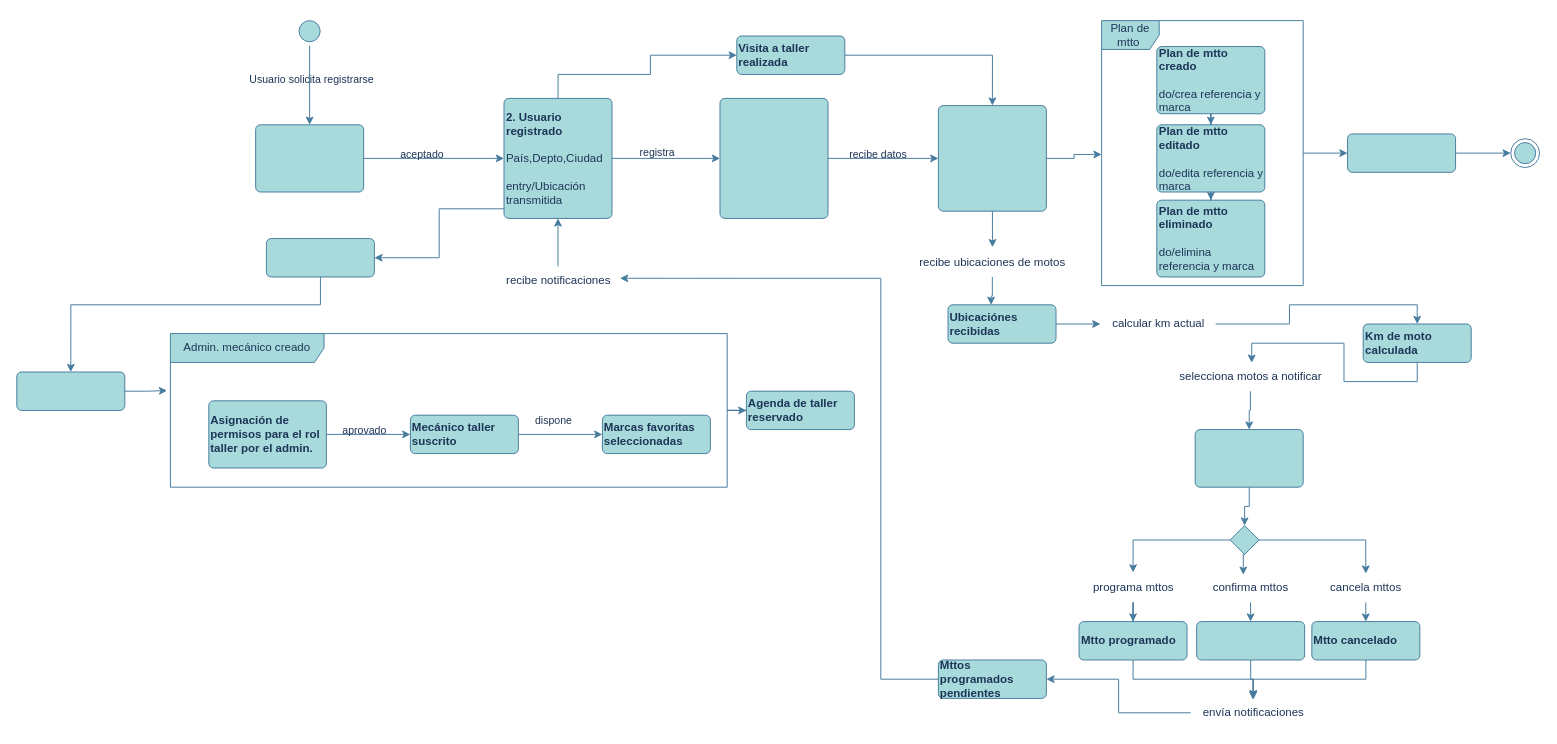
Image size: 1557x744. Some labels were removed from this diagram. The shapes that lost their labels are listed below. From the top down, each one's centre as x and y in pixels, then its label:
At pixel 309 158: "1. Pendiente exit/Permisos admin.".
At pixel 773 157: "3. Moto registrada Marca Referencia do/ kms actual de moto".
At pixel 991 158: "Admin. registrado a DinoTrack do/Asignación de permisos".
At pixel 1401 152: "Mttos realizados".
At pixel 319 257: "4. Notificación programada".
At pixel 70 390: "Disponibilidad por horas para mttos.".
At pixel 1248 458: "Motos seleccionadas con notificaciones pendientes".
At pixel 1250 640: "Mtto realizado".
